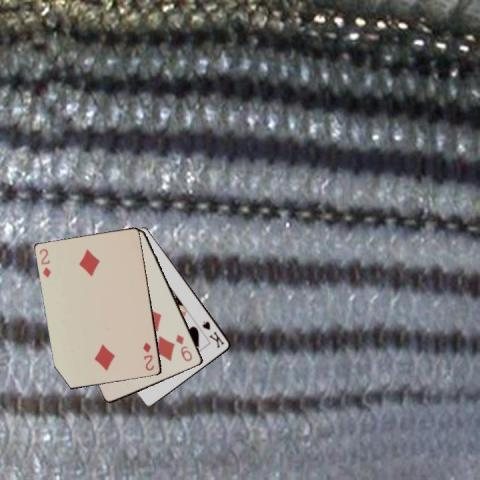2d: (36, 246, 52, 279), (140, 340, 155, 372)
9d: (173, 331, 194, 363)
Ks: (199, 318, 226, 350)
